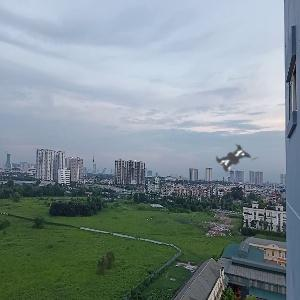drone: (194, 120, 278, 204)
